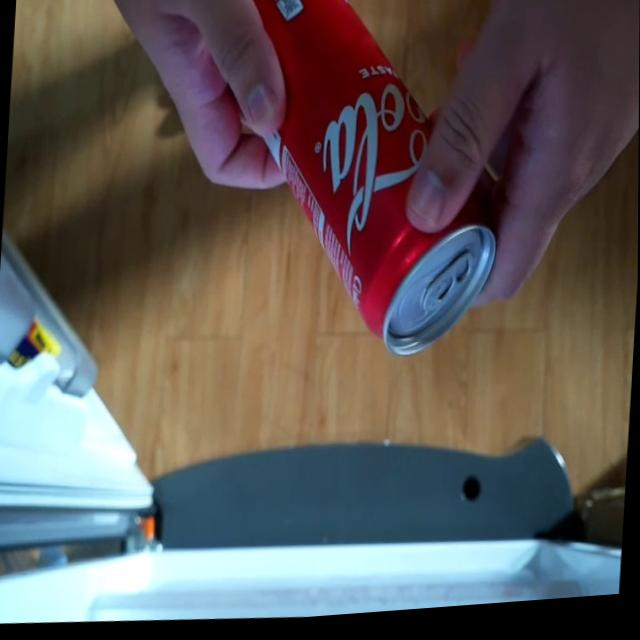coke: (208, 0, 513, 380)
